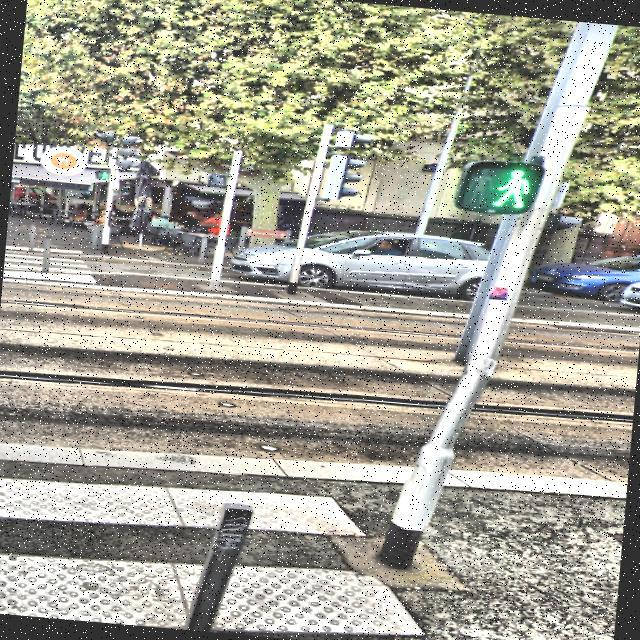green_light: (485, 164, 534, 212)
